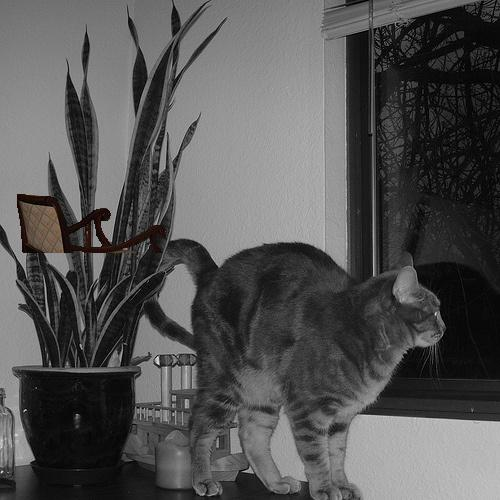tampered: (18, 195, 166, 253)
